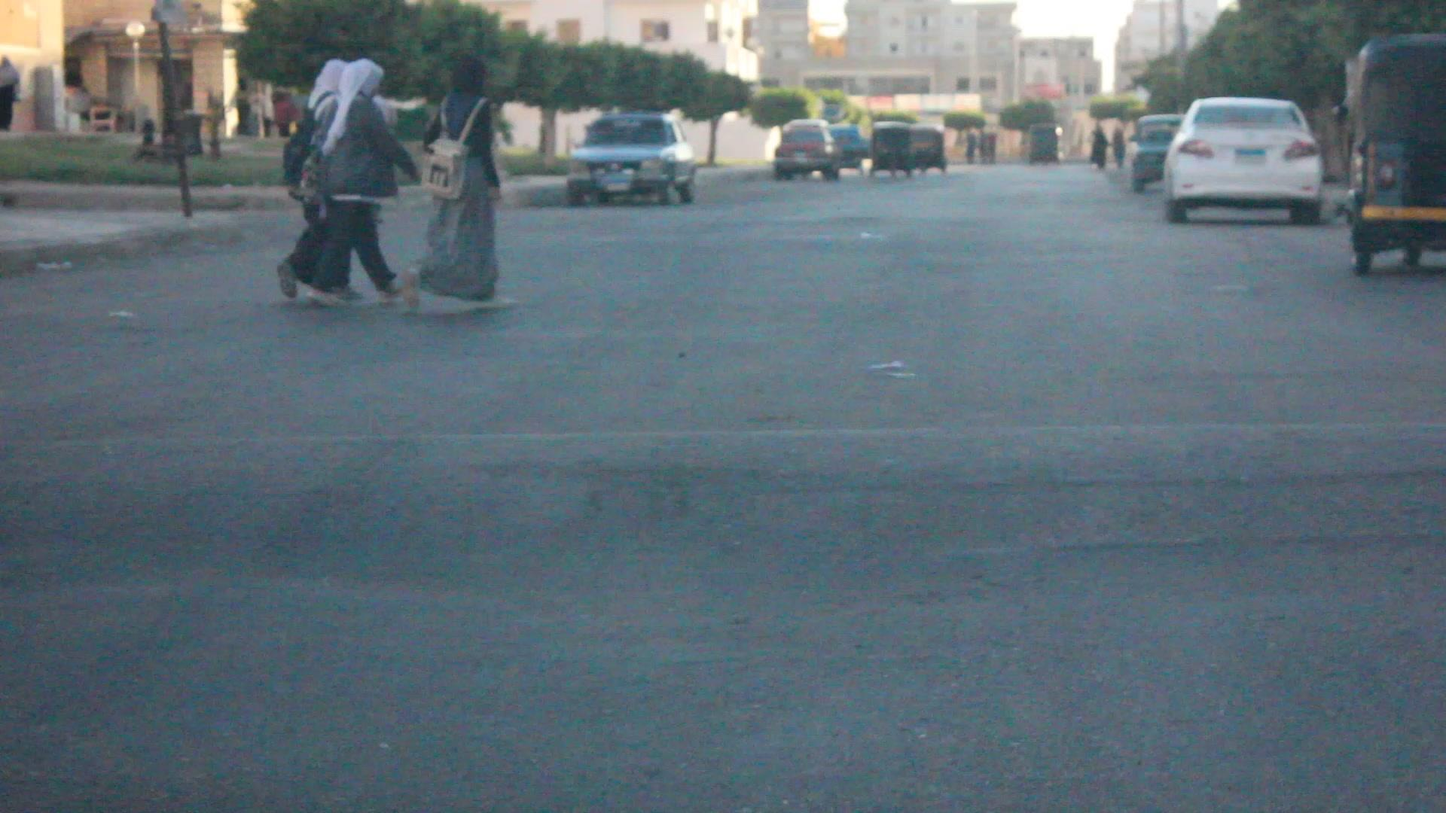Bump: (0, 406, 1435, 589)
